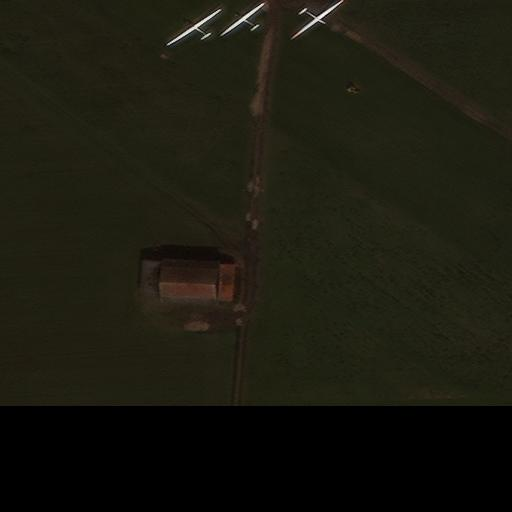Medium Civil Transport: (290, 0, 345, 40), (164, 8, 219, 44)
Small Civil Transport: (219, 2, 263, 34)
